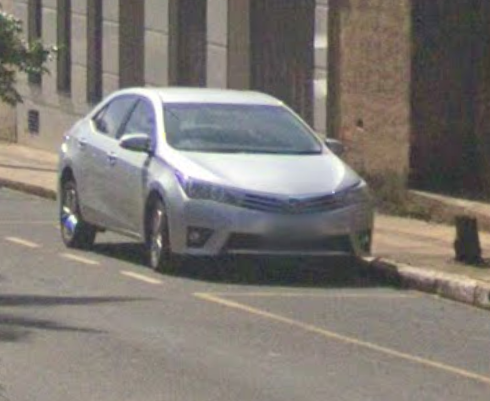car: (54, 82, 376, 279)
